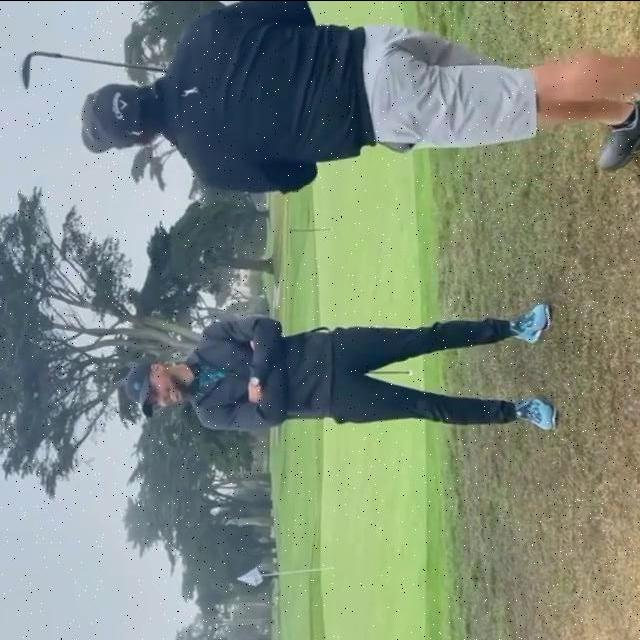golf club-handle: (14, 45, 173, 89)
golf club-head: (20, 55, 38, 86)
